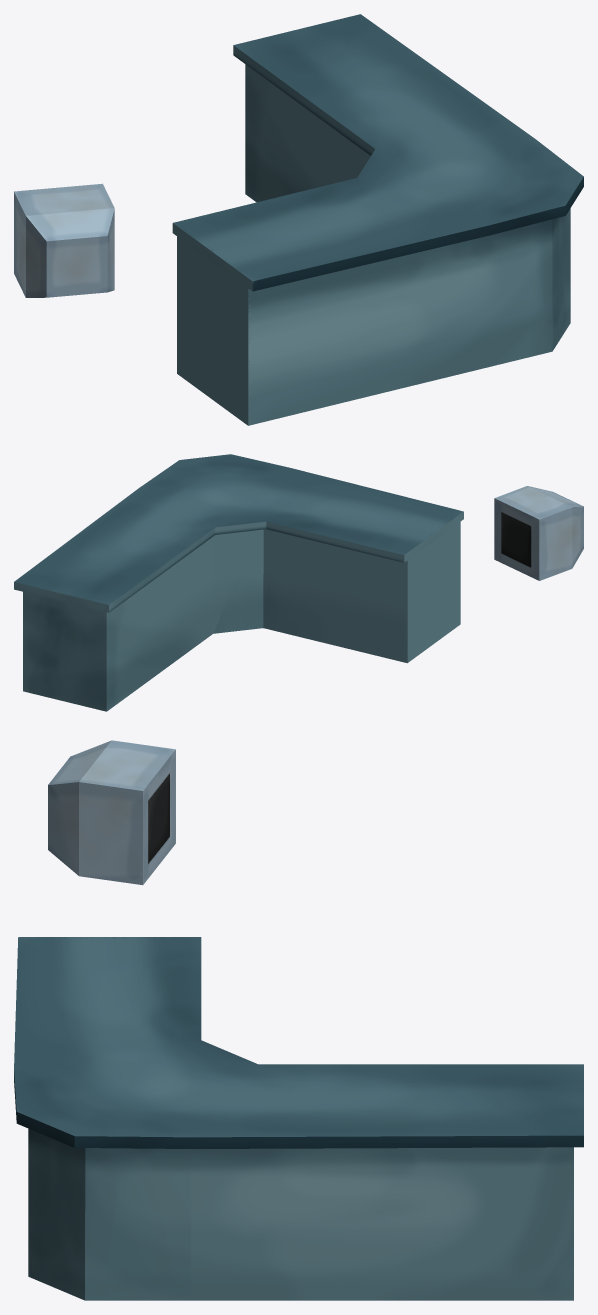
Rendered from cash_register.gltf.
3 views of the same model, one above another, from view 1: azimuth 30°, elevation 25°; view 2: azimuth 150°, elevation 25°; view 3: azimuth 270°, elevation 25° (orthographic). The views are drawn at different scales.
Parts seen in each view (by area): view 1: CashierTable, Computer; view 2: CashierTable, Computer; view 3: CashierTable, Computer.
Boxes of the visible parts, x1=… form: CashierTable: x1=172, y1=14, x2=583, y2=425; Computer: x1=14, y1=183, x2=114, y2=297; CashierTable: x1=14, y1=454, x2=463, y2=711; Computer: x1=494, y1=486, x2=583, y2=580; CashierTable: x1=14, y1=937, x2=583, y2=1300; Computer: x1=48, y1=740, x2=175, y2=885.
Bounding box in the file's own units: 3.73 × 1.5 × 2.95.
2 materials, 2 textured.
